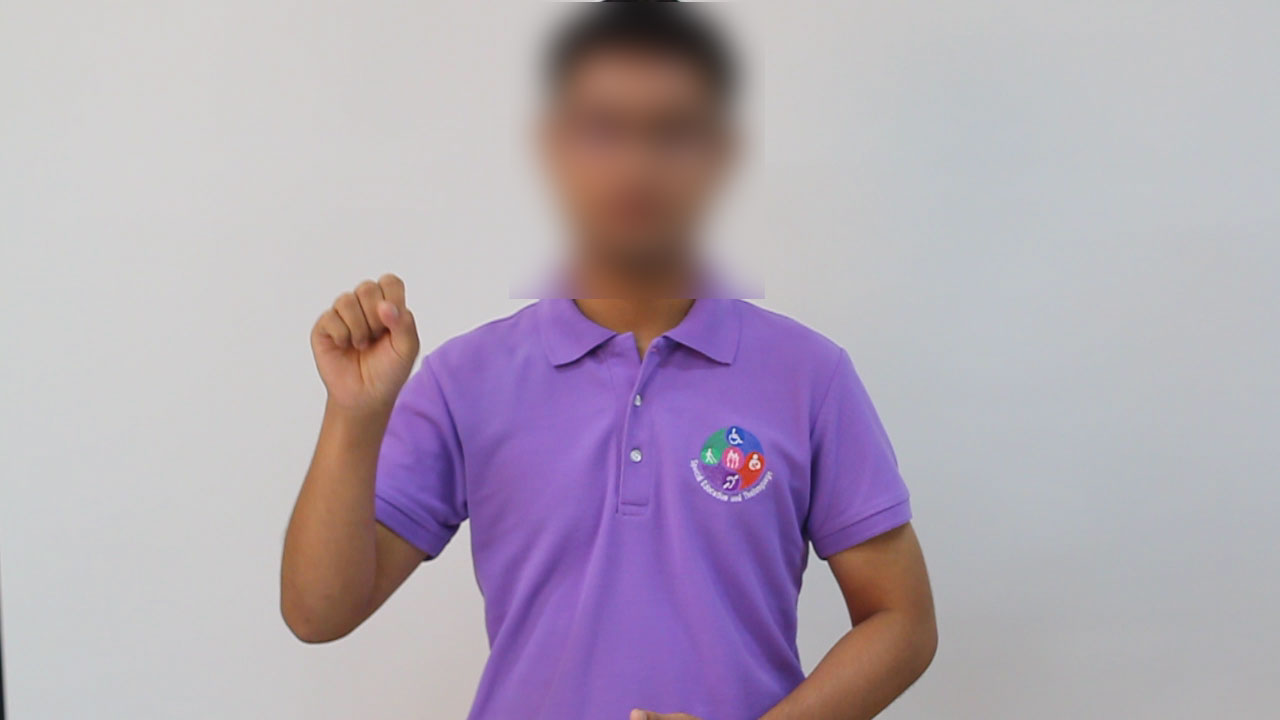sor: (290, 257, 429, 412)
